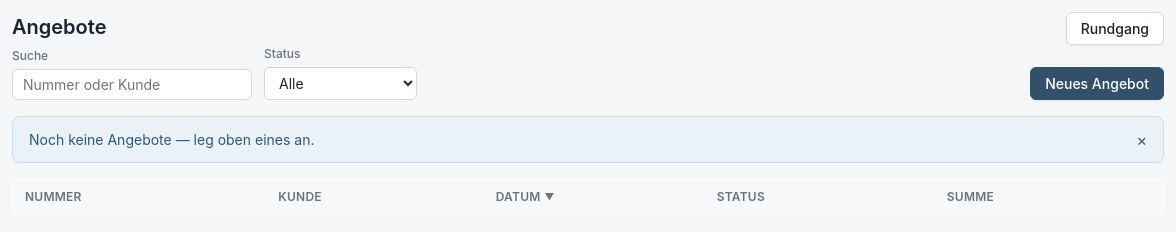
Scenario: Angebote › zeigt den leeren Anfang als wegklickbaren Hinweis
This screenshot has width=1176, height=232.
Expected: the text "Noch keine Angebote — leg oben eines an. ×" is shown, [12,116,1164,163]
What coordinates should you click on to do the following:
click the button named "Hinweis schließen"
I would click on:
 (1138, 140)
Its box is [1128,132,1147,148].
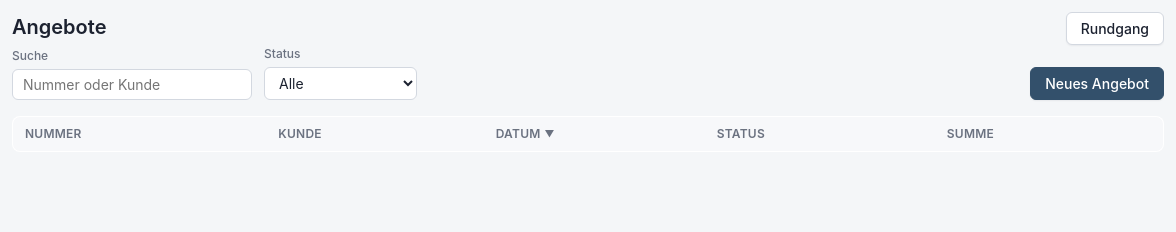
Expected: the text "Noch keine Angebote" is gone
